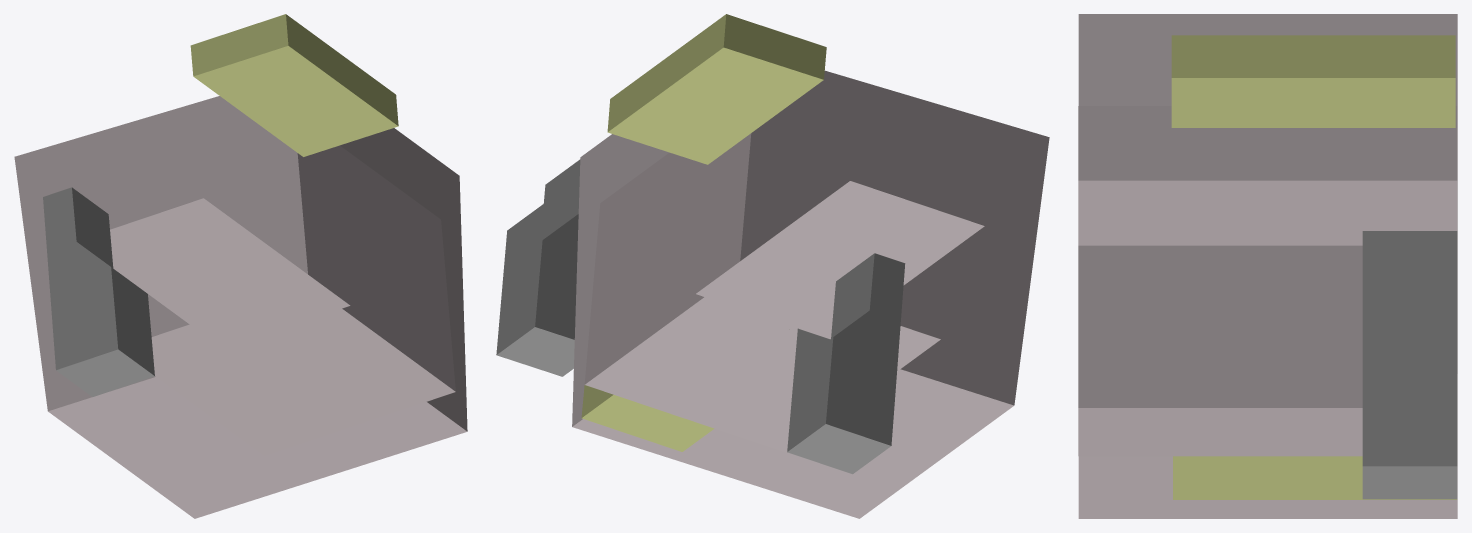
The picture shows the model from 3 angles, left to right: view 1: azimuth 30°, elevation 25°; view 2: azimuth 150°, elevation 25°; view 3: azimuth 270°, elevation 25°; orthographic projection. The views are drawn at different scales.
Parts seen in each view (by area): view 1: 0_2_3_3_3_1_0_2_3_0; view 2: 0_2_3_3_3_1_0_2_3_0; view 3: 0_2_3_3_3_1_0_2_3_0.
Boxes of the visible parts, bbox=[...] form: 0_2_3_3_3_1_0_2_3_0: bbox=[14, 14, 467, 518]; 0_2_3_3_3_1_0_2_3_0: bbox=[496, 14, 1049, 518]; 0_2_3_3_3_1_0_2_3_0: bbox=[1078, 14, 1457, 518].
Bounding box in the file's own units: 17.83 × 15.32 × 12.01.
